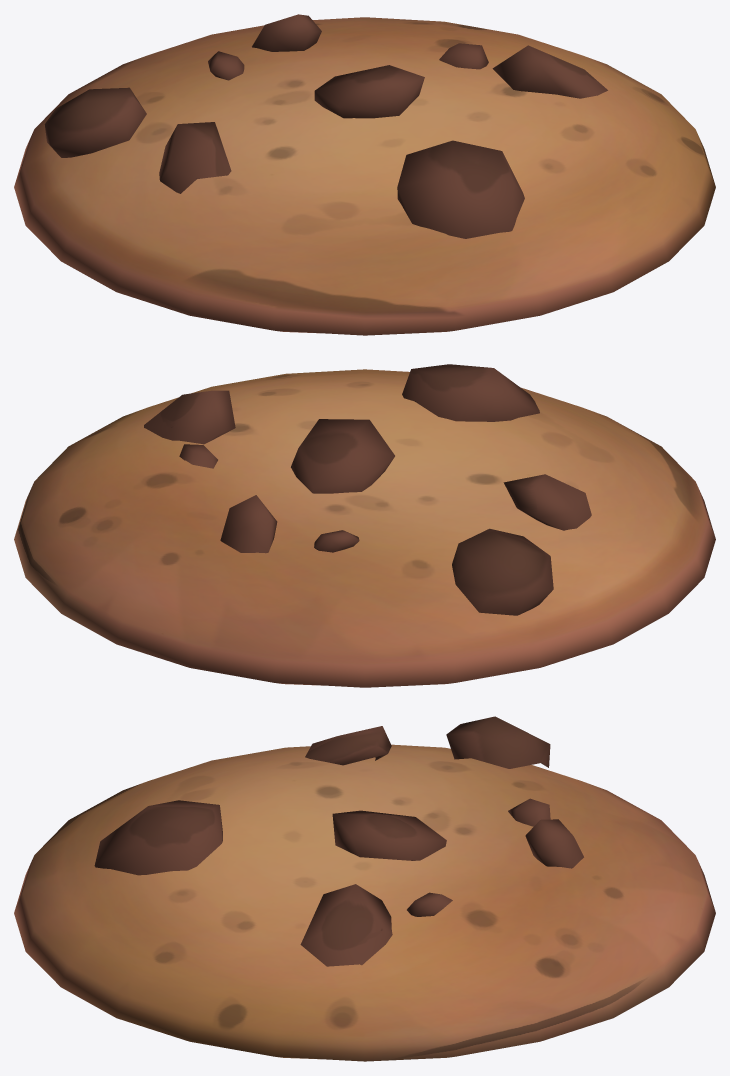
Rendered from Biscuit_01.fbx.
The picture shows the model from 3 angles, top to bottom: view 1: azimuth 30°, elevation 25°; view 2: azimuth 150°, elevation 25°; view 3: azimuth 270°, elevation 25°; orthographic projection.
Visible parts, largest first — view 1: Cookie.001; view 2: Cookie.001; view 3: Cookie.001.
Boxes of the visible parts, x1,y1,x2,y2 form: Cookie.001: [14, 14, 715, 335]; Cookie.001: [14, 364, 715, 687]; Cookie.001: [14, 716, 715, 1061].
Size of the model in its own units: 8761 by 1789 by 8761.
